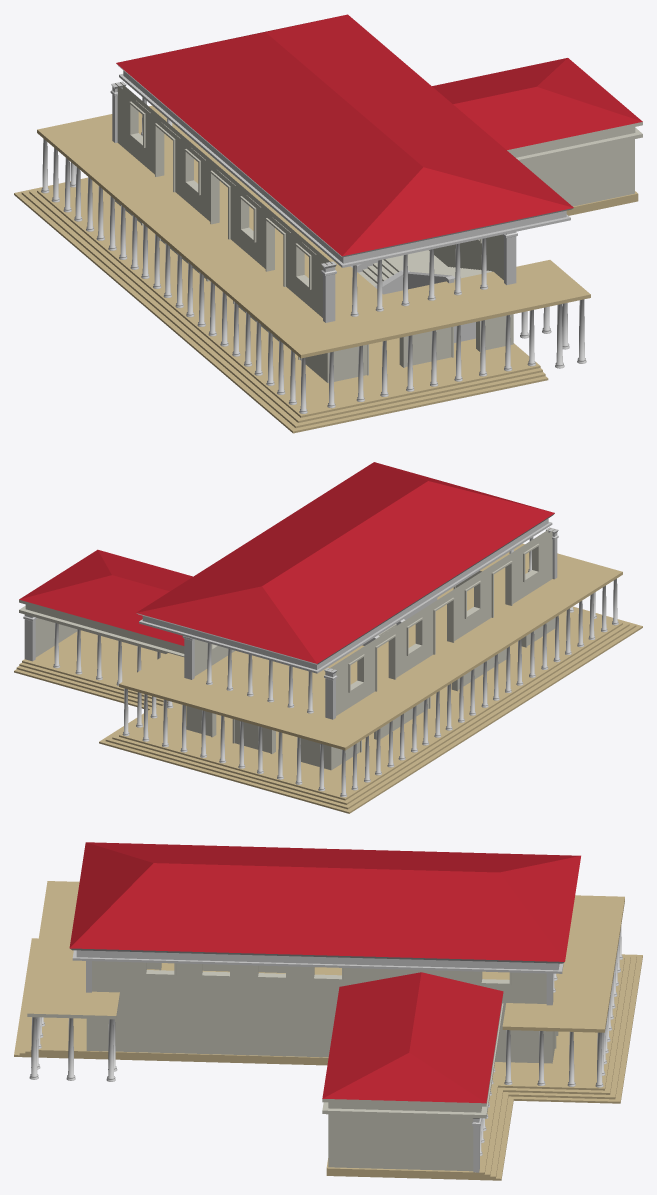
3 views of the same model, one above another, from view 1: azimuth 30°, elevation 25°; view 2: azimuth 150°, elevation 25°; view 3: azimuth 270°, elevation 25° (orthographic). The views are drawn at different scales.
Parts seen in each view (by area): view 1: Plane_048, Plane_049, Plane_057, Plane_056, Plane_047, Plane_046, Plane_051, Cube_037, Cube_042, Cube_043; view 2: Plane_048, Plane_057, Plane_049, Plane_047, Plane_056, Plane_046, Cube_041, Cube_039; view 3: Plane_048, Plane_046, Plane_056, Plane_057, Plane_049, Plane_047.
Boxes of the visible parts, <box> form: Plane_048: <box>116,14,573,267</box>; Plane_049: <box>37,105,590,358</box>; Plane_057: <box>14,177,638,433</box>; Plane_056: <box>432,58,642,162</box>; Plane_047: <box>115,82,503,317</box>; Plane_046: <box>115,139,634,382</box>; Plane_051: <box>358,250,491,286</box>; Cube_037: <box>374,270,475,342</box>; Cube_042: <box>321,261,336,322</box>; Cube_043: <box>502,232,517,284</box>; Plane_048: <box>136,462,554,673</box>; Plane_057: <box>14,587,642,813</box>; Plane_049: <box>119,543,622,750</box>; Plane_047: <box>194,528,555,715</box>; Plane_056: <box>19,549,192,656</box>; Plane_046: <box>35,572,555,770</box>; Cube_041: <box>324,667,337,719</box>; Cube_039: <box>23,614,36,661</box>; Plane_048: <box>69,842,580,973</box>; Plane_046: <box>86,962,558,1171</box>; Plane_056: <box>322,972,503,1118</box>; Plane_057: <box>14,938,642,1180</box>; Plane_049: <box>27,881,624,1032</box>; Plane_047: <box>92,961,546,1004</box>.
Size of the model in its own units: 114 by 37.11 by 125.
